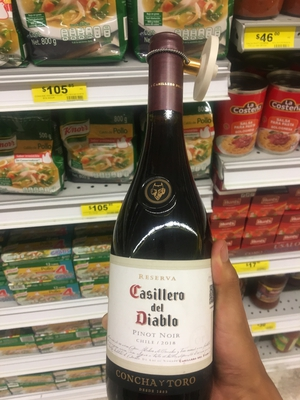casillero del diablo pinot noir: (103, 25, 225, 400)
